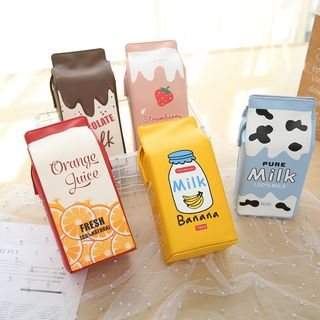carton: (16, 105, 150, 290), (132, 100, 243, 274), (232, 56, 320, 233)
